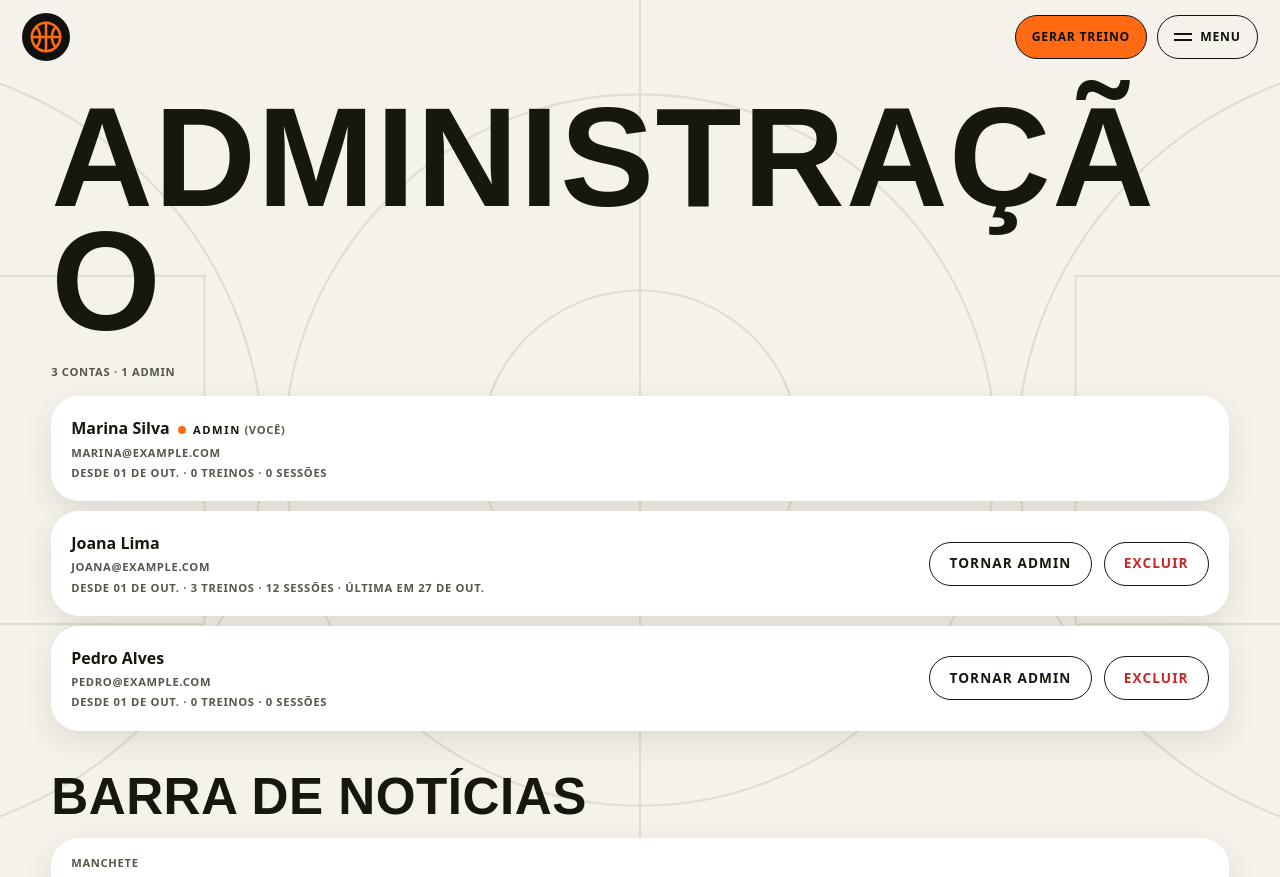
Test: Painel admin › promove e rebaixa administradores
The image size is (1280, 877).
What coordinates should you click on to do the following:
click the button "Tornar admin" in the row of "Joana Lima"
I would click on:
 (1010, 564)
Its box is [929,542,1092,586].
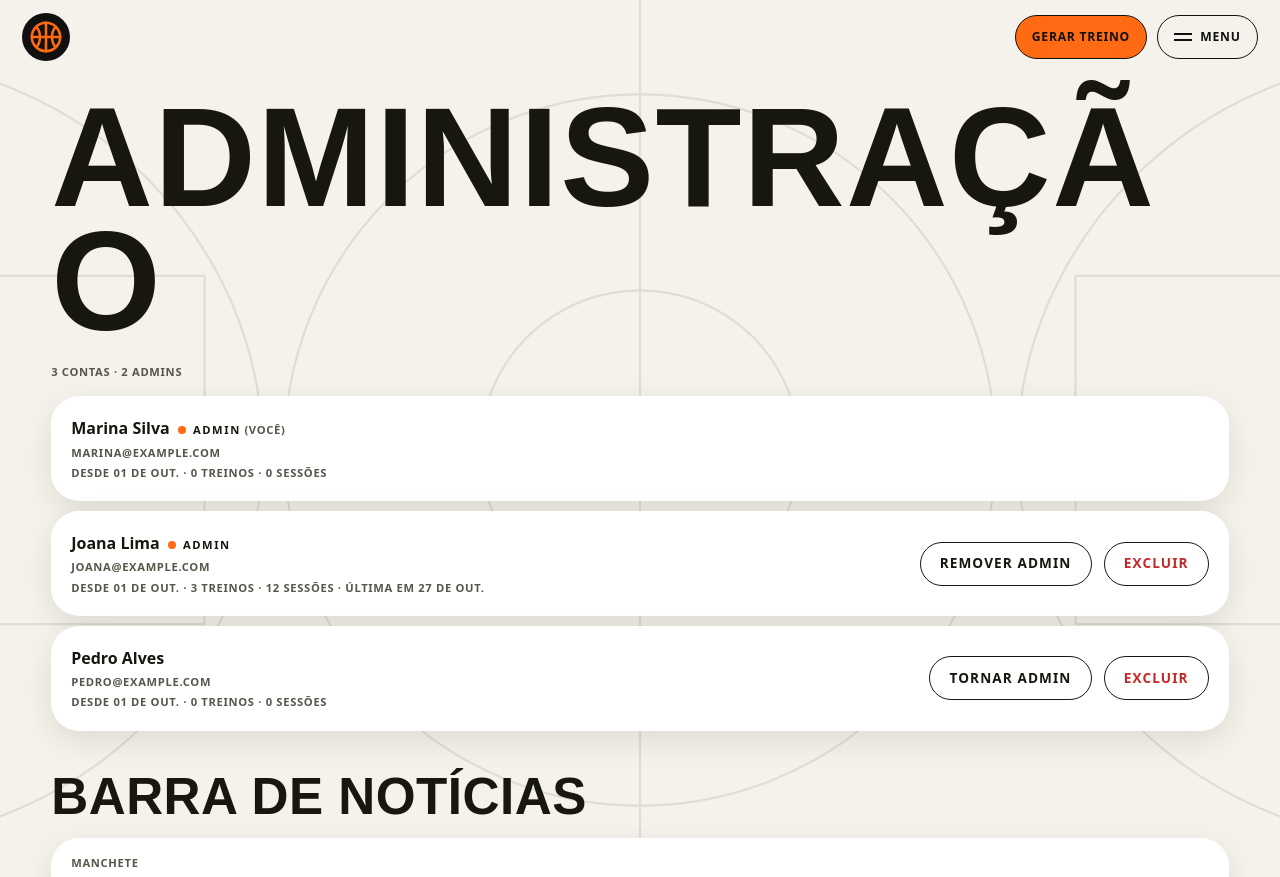
expect the button "Remover admin" is shown: met
expect the text "admin" next to "Joana Lima" is shown: met, box [183,537,231,552]
expect the text "3 contas · 2 admins" is shown: met, box [51,364,182,379]
What coordinates should you click on to do the following:
click the button "Remover admin"
I would click on:
 (1006, 564)
Its box is [920,542,1092,586].
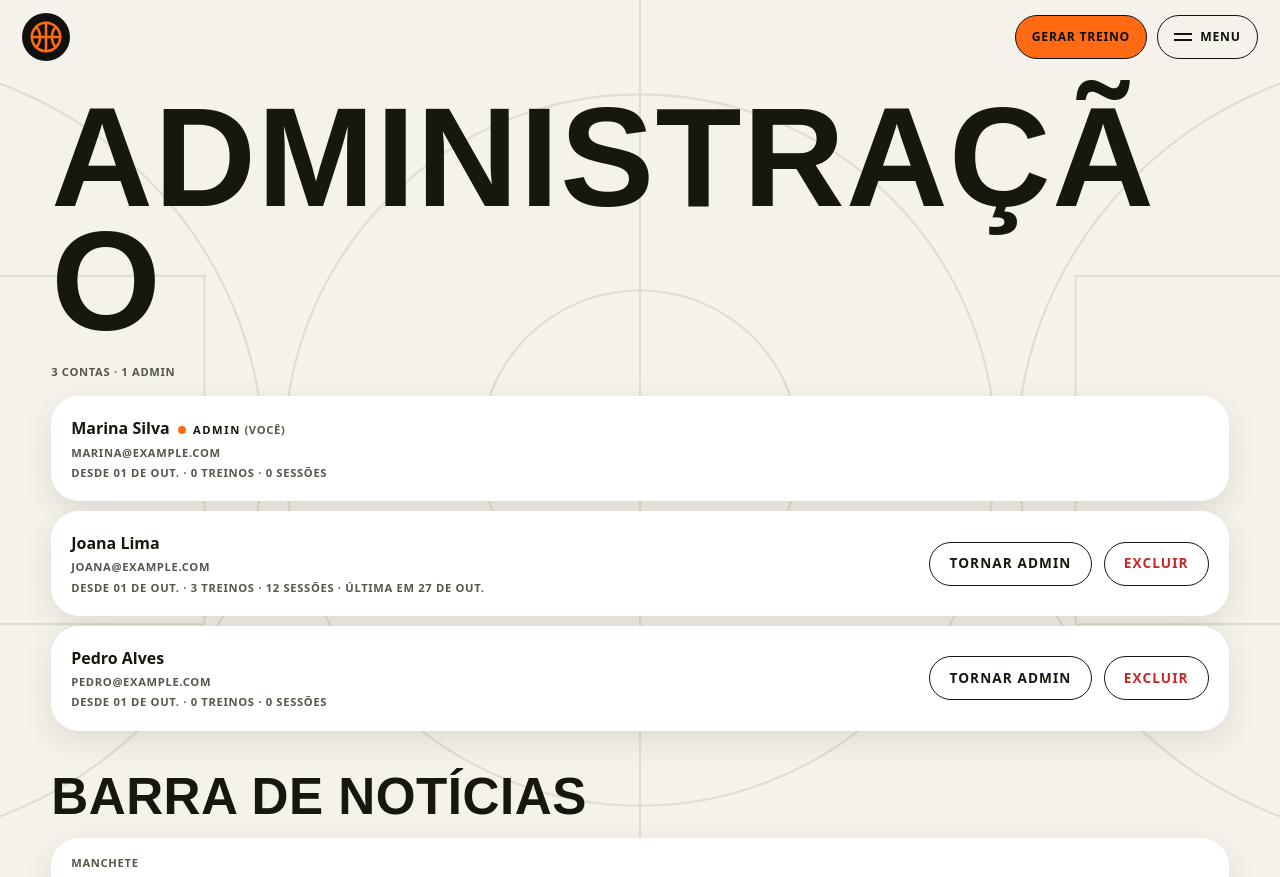
expect the button "Tornar admin" in the row of "Joana Lima" is shown: met, box [929,542,1092,586]
